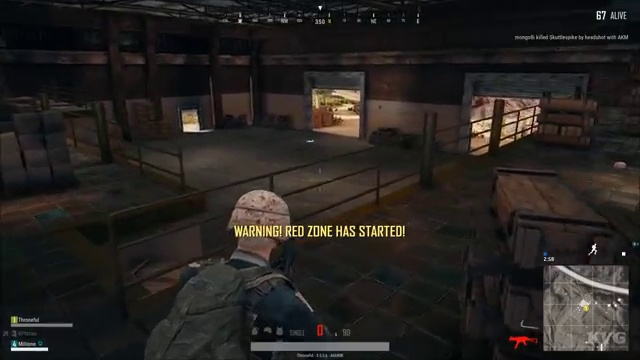Player: (180, 184, 351, 313)
